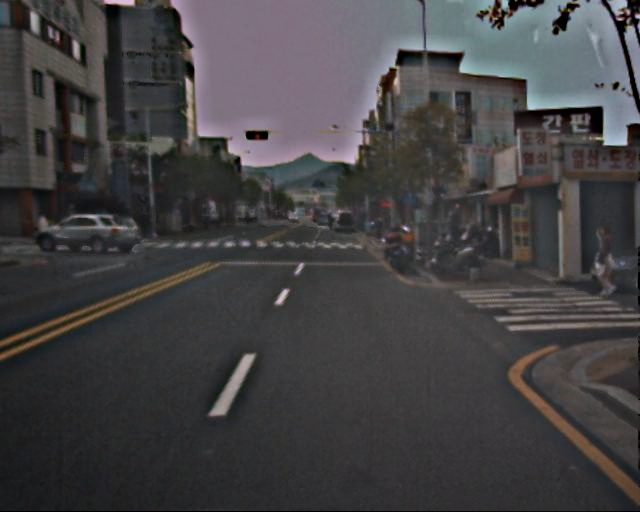person: (588, 226, 620, 298)
